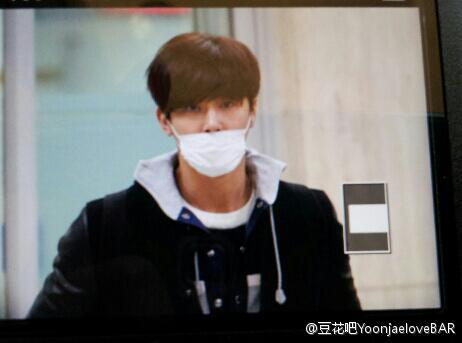WRONG: (171, 87, 251, 179)
